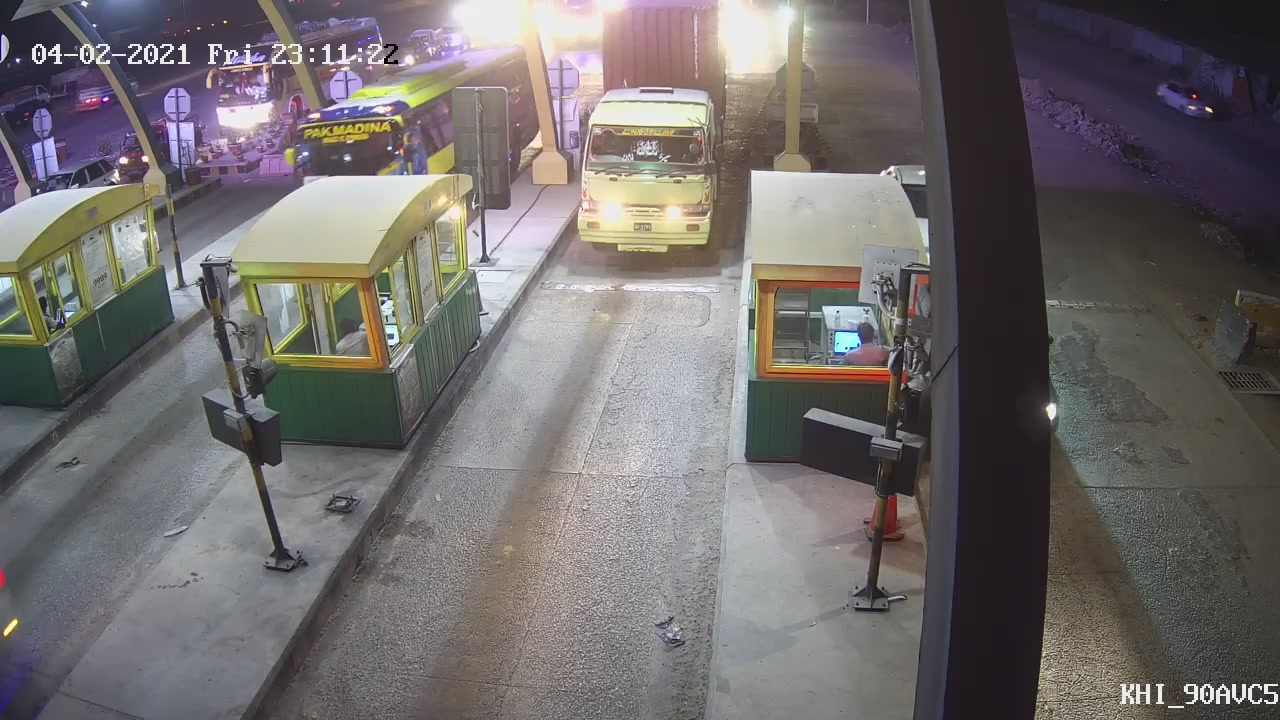F6: (565, 1, 732, 258)
